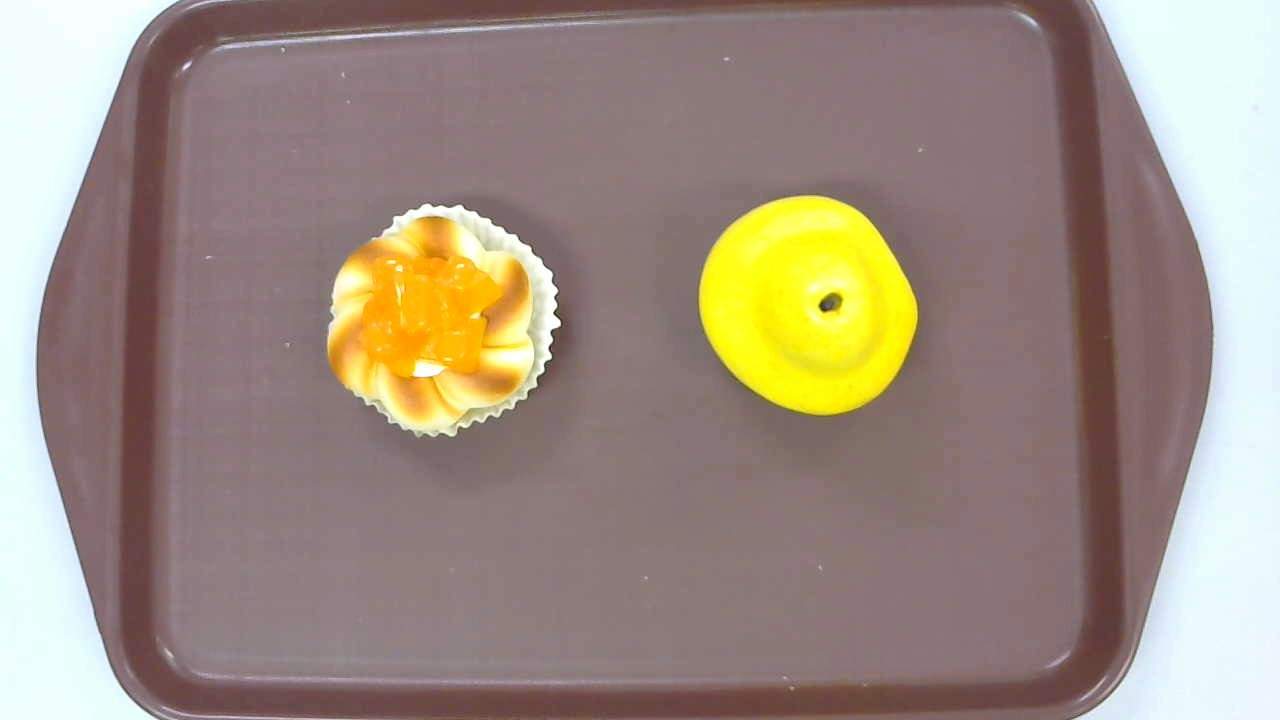mango tart: (326, 203, 562, 441)
yellow pear: (698, 195, 918, 417)
